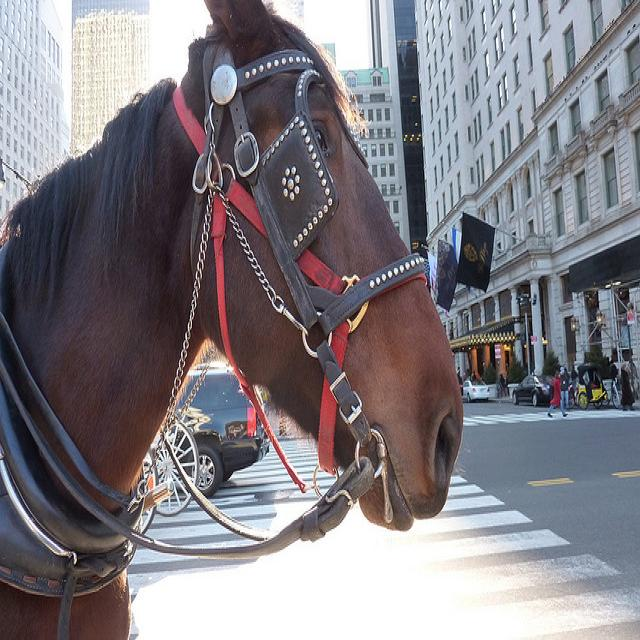Vehicle: (177, 364, 270, 496), (512, 373, 554, 406), (461, 378, 497, 402)
